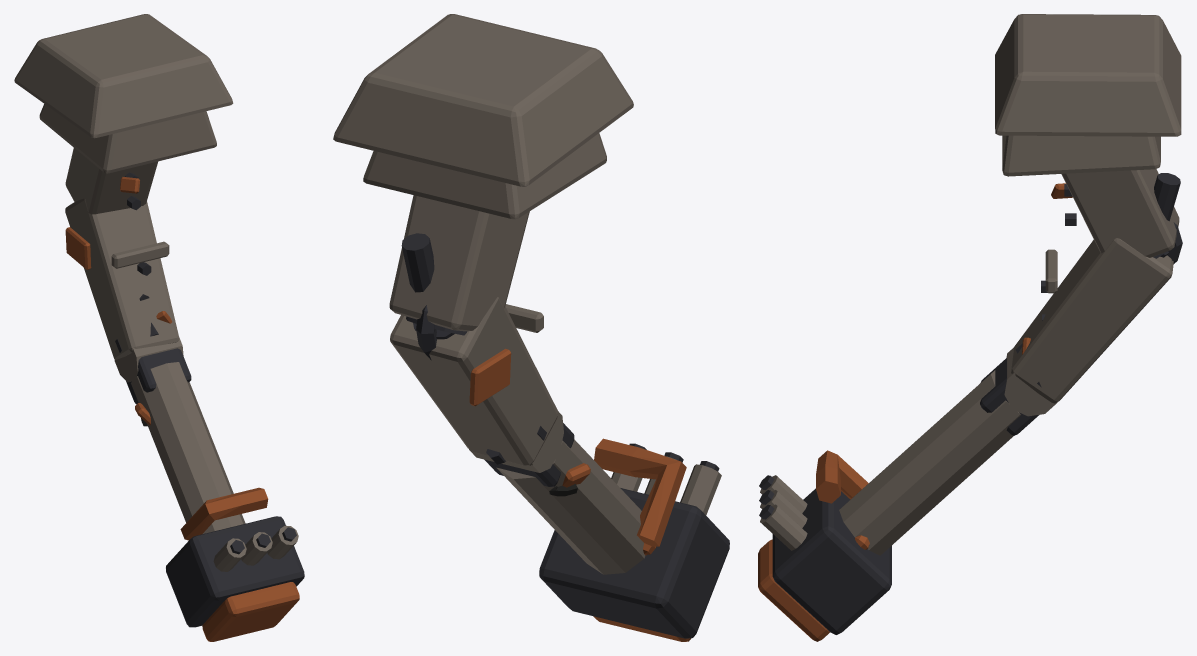
Rendered from ar_hammer.glb.
The picture shows the model from 3 angles, left to right: view 1: azimuth 30°, elevation 25°; view 2: azimuth 150°, elevation 25°; view 3: azimuth 270°, elevation 25°; orthographic projection. The views are drawn at different scales.
Visible parts, largest first — view 1: ar_hammer; view 2: ar_hammer; view 3: ar_hammer.
Part boxes in pixels (x1,y1,x2,y2): ar_hammer: (14,14,304,641); ar_hammer: (333,14,729,641); ar_hammer: (758,14,1182,641).
Size of the model in its own units: 0.1774 by 0.5998 by 0.3974.
